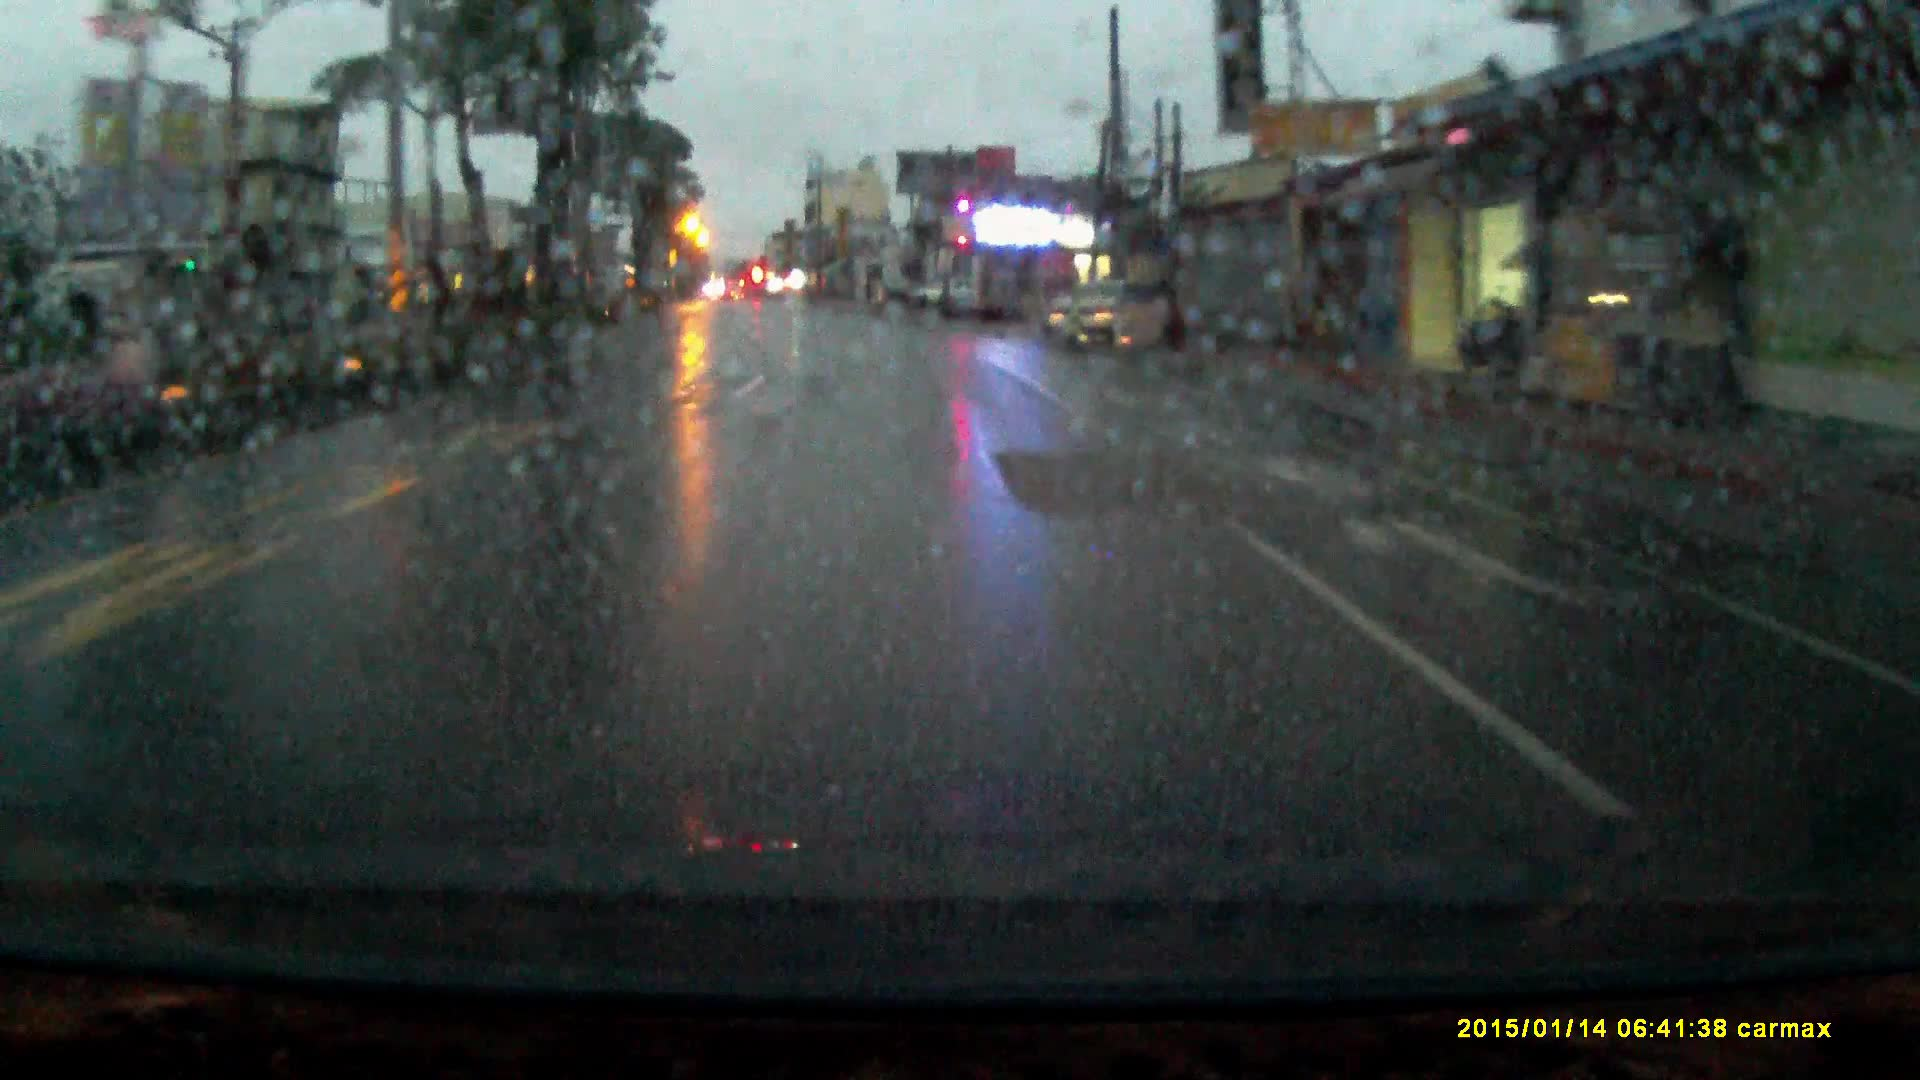vehicle: (1048, 284, 1174, 365), (913, 281, 976, 318)
